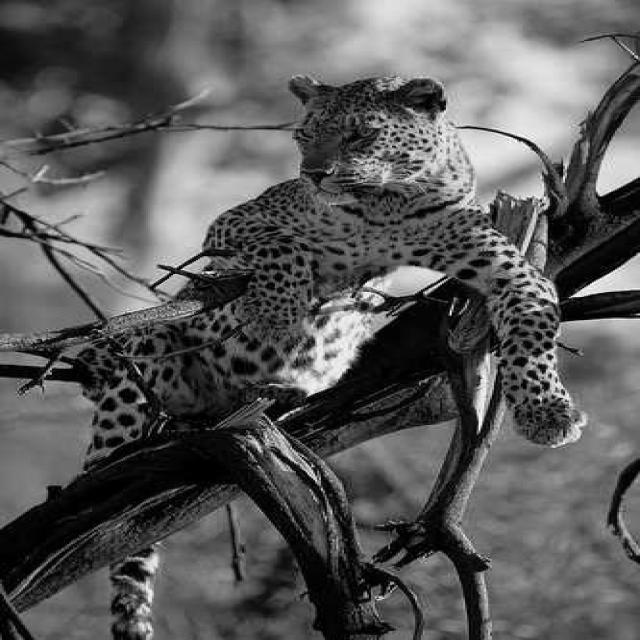Leopard: (144, 41, 640, 638)
